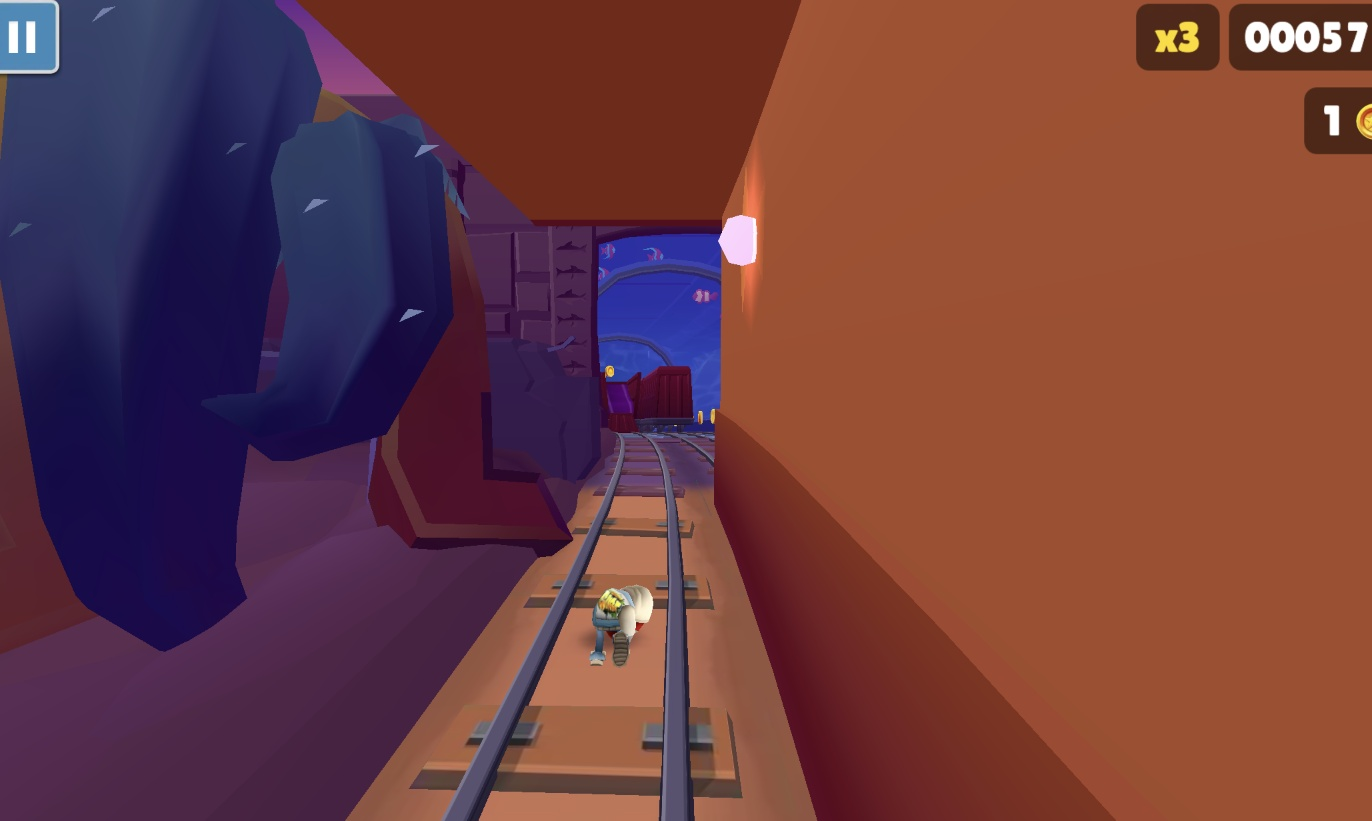pillar: (713, 0, 1372, 821)
train: (633, 367, 695, 435), (604, 376, 637, 433)
